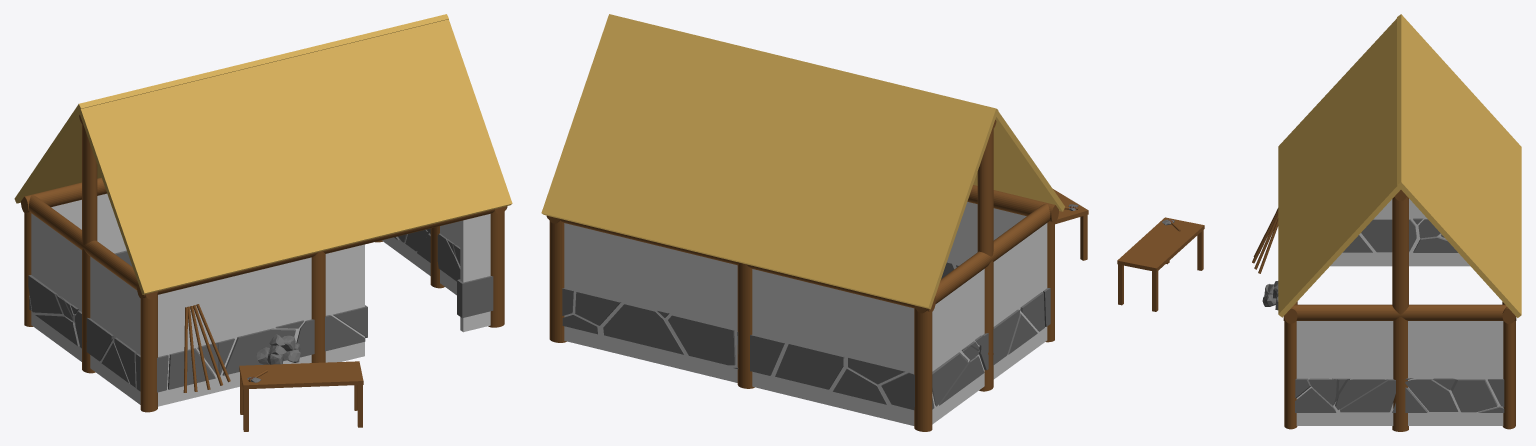
File: Toolmaker.fbx
3 views of the same model, side by side, from view 1: azimuth 30°, elevation 25°; view 2: azimuth 150°, elevation 25°; view 3: azimuth 270°, elevation 25° (orthographic). The views are drawn at different scales.
Visible parts, largest first — view 1: Roof, Clay Walls, Struts, Stone Walls, Table, Sticks, Rocks; view 2: Roof, Clay Walls, Stone Walls, Struts, Table; view 3: Roof, Clay Walls, Struts, Stone Walls, Table, Sticks.
Boxes of the visible parts, x1=… form: Roof: x1=14, y1=14, x2=512, y2=294; Clay Walls: x1=31, y1=193, x2=490, y2=406; Struts: x1=21, y1=115, x2=507, y2=412; Stone Walls: x1=28, y1=228, x2=493, y2=392; Table: x1=239, y1=361, x2=363, y2=431; Sticks: x1=183, y1=304, x2=230, y2=392; Rocks: x1=256, y1=334, x2=300, y2=364; Roof: x1=541, y1=14, x2=1064, y2=309; Clay Walls: x1=564, y1=202, x2=1047, y2=425; Stone Walls: x1=562, y1=261, x2=1050, y2=410; Struts: x1=546, y1=120, x2=1058, y2=431; Table: x1=1053, y1=189, x2=1088, y2=260; Roof: x1=1278, y1=14, x2=1521, y2=317; Clay Walls: x1=1296, y1=199, x2=1503, y2=425; Struts: x1=1283, y1=190, x2=1516, y2=431; Stone Walls: x1=1295, y1=218, x2=1504, y2=412; Table: x1=1117, y1=217, x2=1204, y2=311; Sticks: x1=1252, y1=208, x2=1278, y2=273.
Size of the model in its own units: 182 by 127 by 185.
